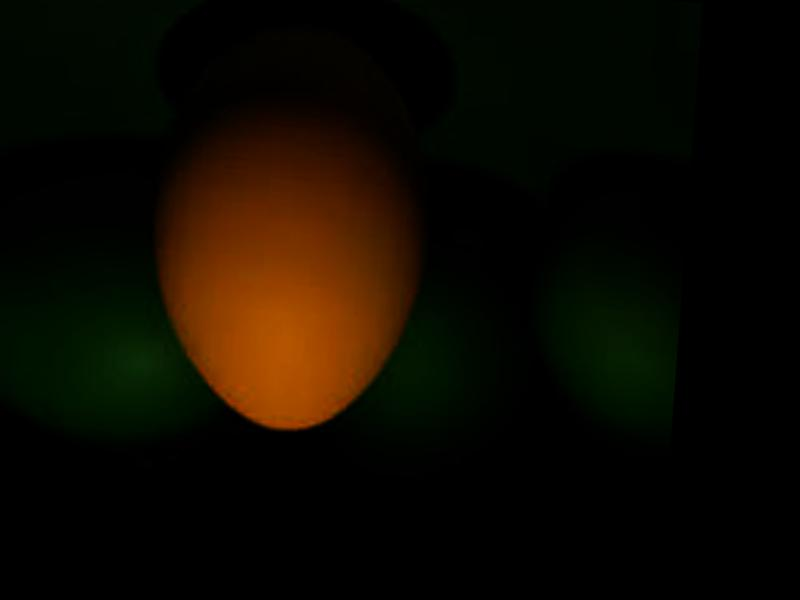Eggs: (138, 12, 443, 438)
